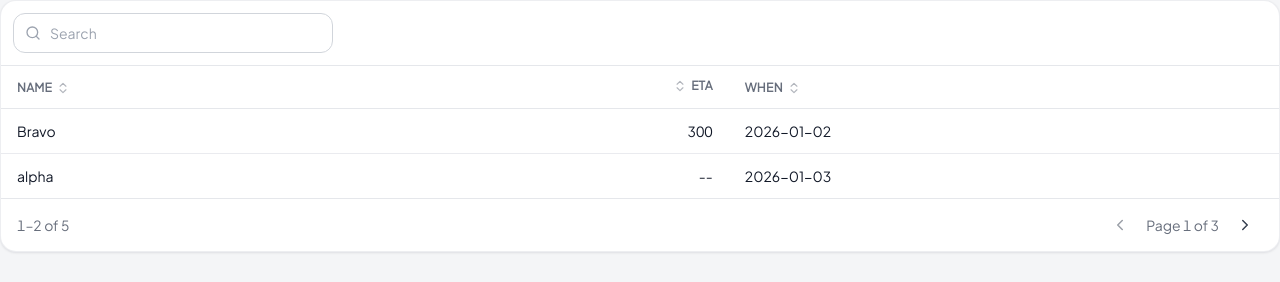
DataTable sorting › searches and paginates
Expected: the text "Page 1 of 3" is shown, [1142,215,1223,235]
Click the button named "Next page" at (1245, 225), box [1227,207,1263,243]
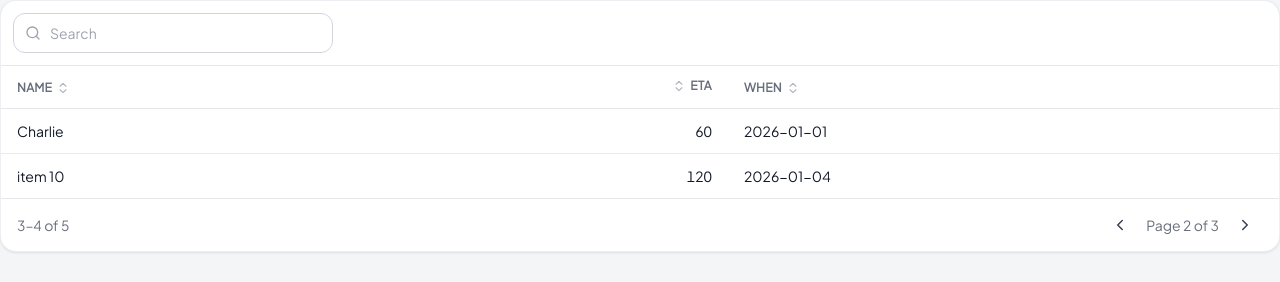
Now the text "Page 2 of 3" is shown, box [1142,215,1223,235]
Type "charlie" into the search field at (173, 33), box [13,13,333,53]
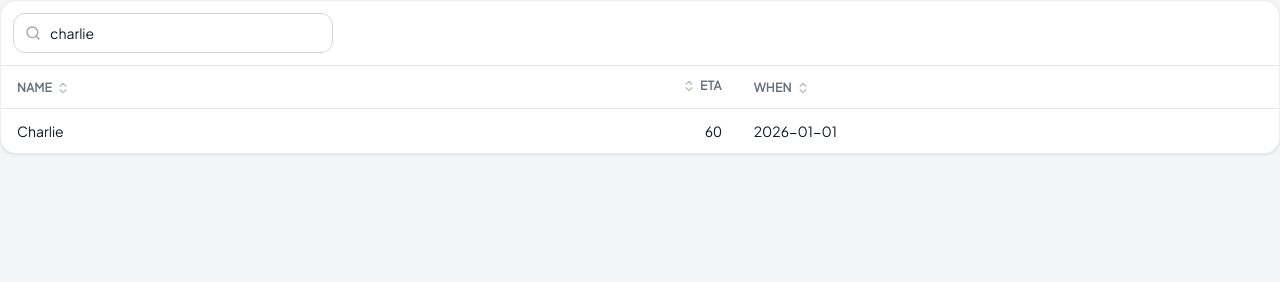
Expected: the number of rows is 2, [1,66,1279,109]; [1,109,1279,153]
Replace the text in the search field with "zzz" at (173, 33), box [13,13,333,53]
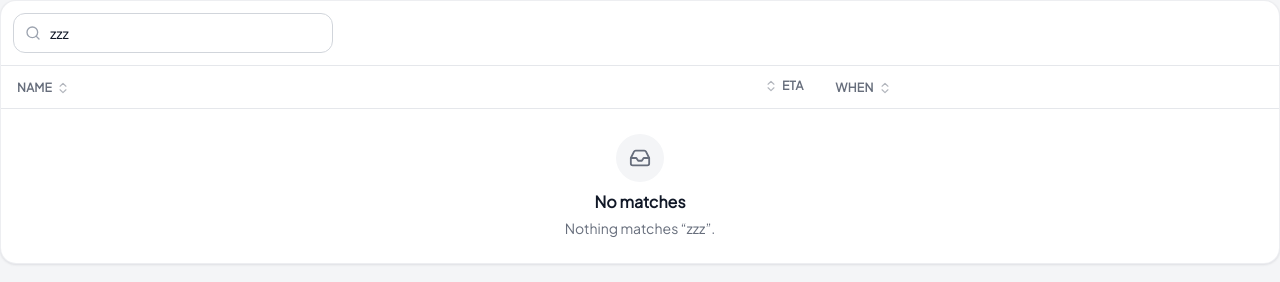
Now the text "No matches" is shown, box [594,191,686,212]
